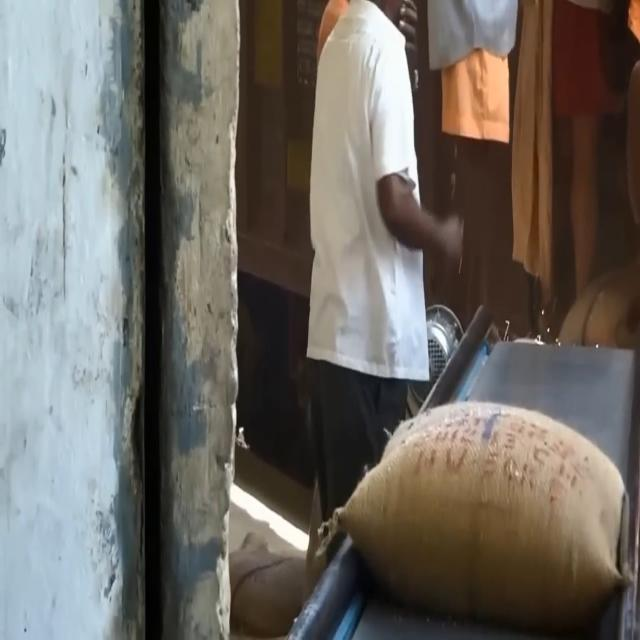gunny_bag: (335, 393, 635, 640)
